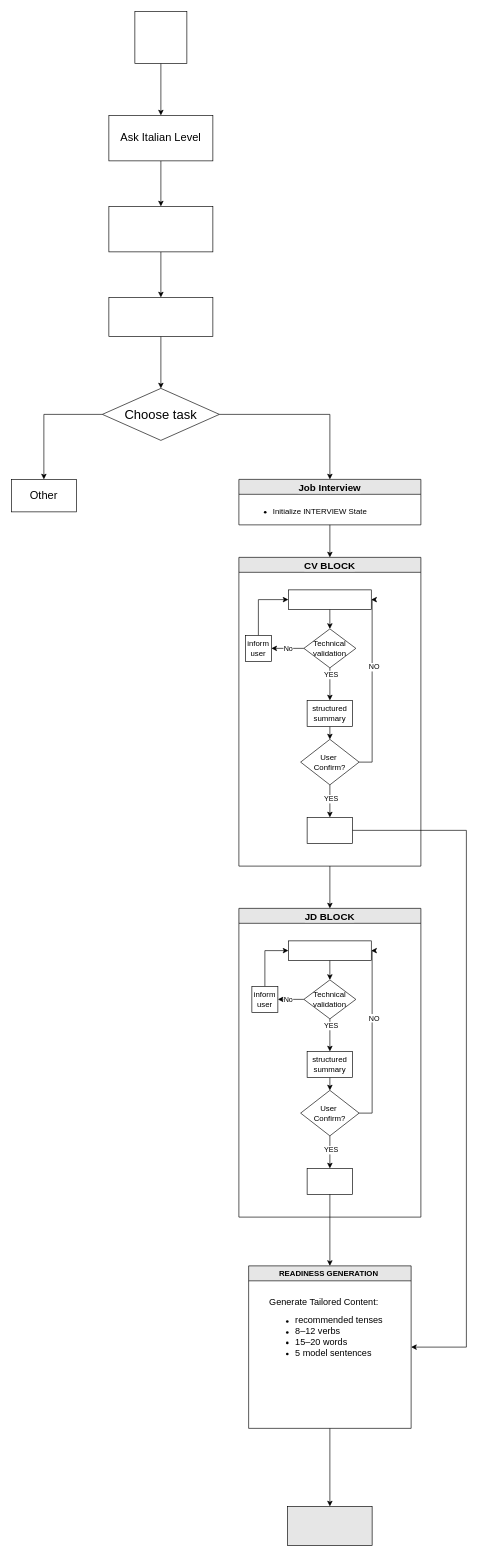
This 483x1557 diagram has some shape labels left out. Each missing label, with the centre of its shape:
"Ask for CV(pdf or text)" belongs at point (329, 599).
"Ask for JD (text)" belongs at point (329, 950).
"Ask preferred feedback Language (IT+EN / IT)" belongs at point (160, 229).
"End V1" belongs at point (329, 1525).
"Start" belongs at point (160, 37).
"Store CV" belongs at point (329, 830).
"Store JD" belongs at point (329, 1181).
"Stores as GLOBAL user context" belongs at point (160, 316).
